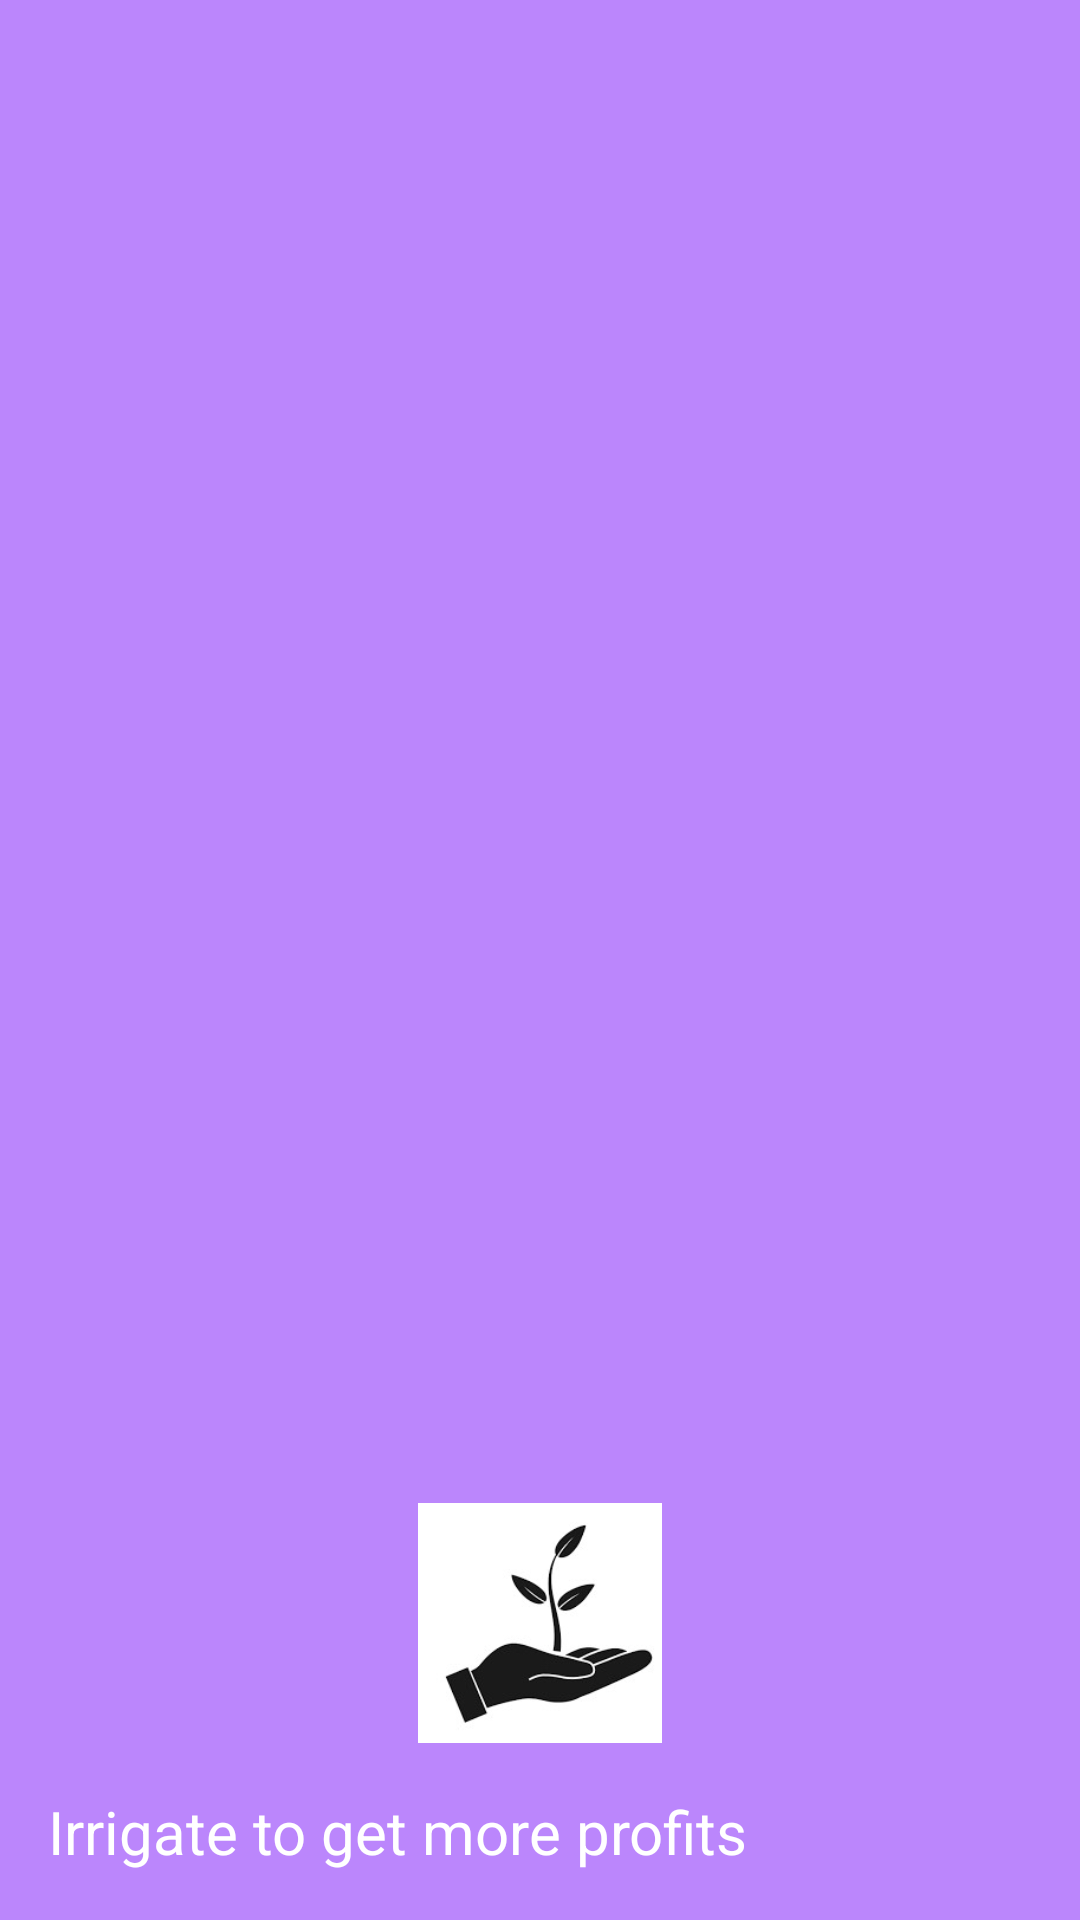

Screen size 1080px×1920px. Icon name, then its box in pixels as (x1=x1, y1=y1, x2=x2, y2=y2):
planthnd: (x1=418, y1=1503, x2=662, y2=1743)
